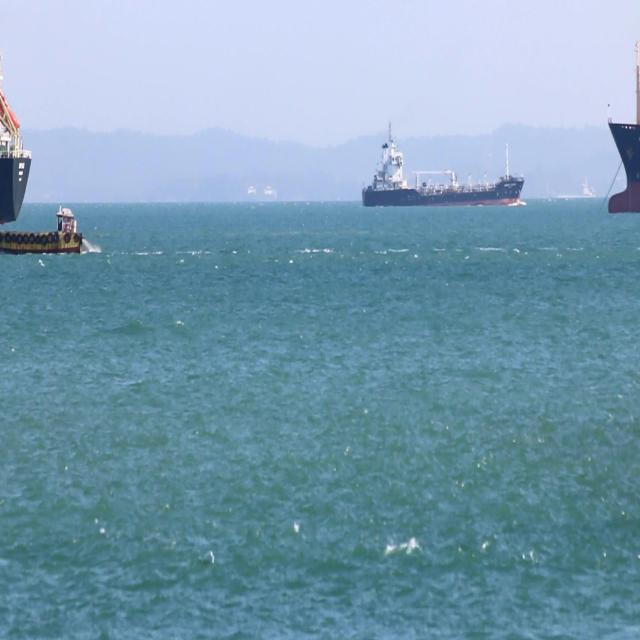ship: (361, 116, 524, 207), (607, 44, 640, 218), (0, 204, 84, 255), (0, 94, 30, 226)
